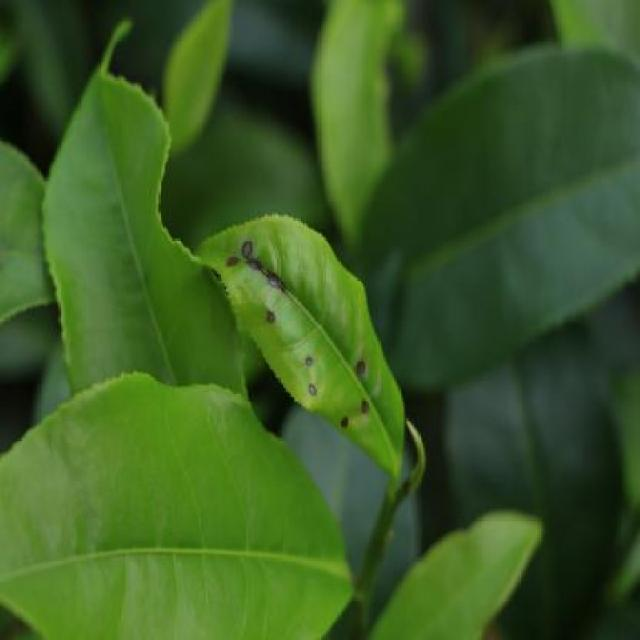Tea Mosquito bug infested leaf: (180, 211, 425, 454)
